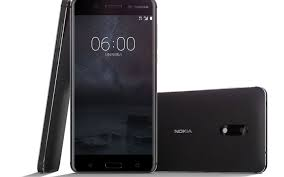nokia: (68, 1, 159, 173), (153, 85, 268, 174)
